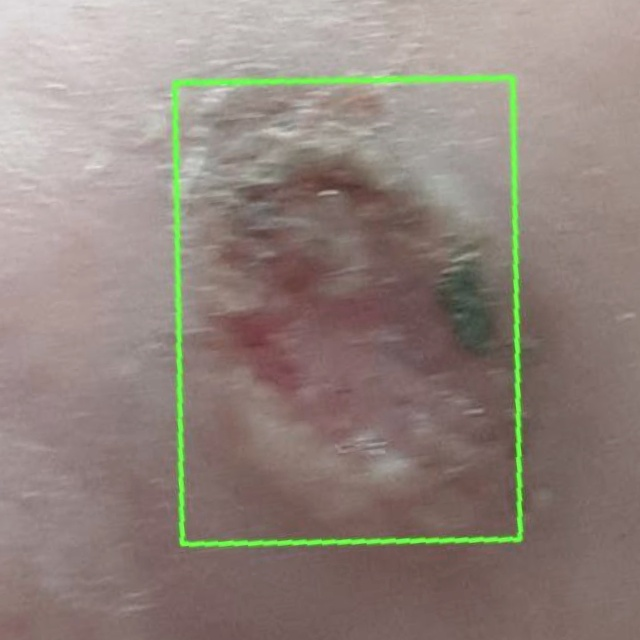Eczema: (174, 78, 519, 545)
